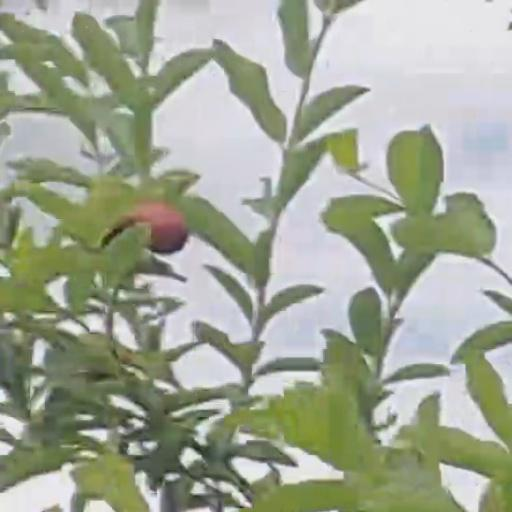acerola_vermelha: (138, 202, 186, 249)
